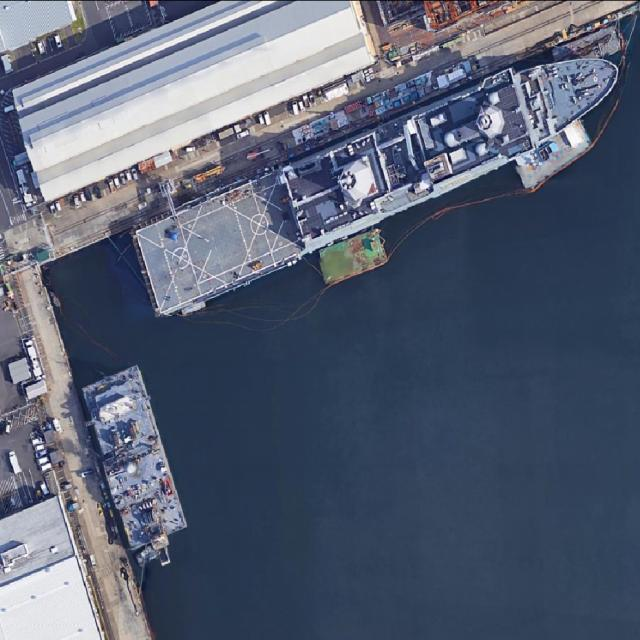Auxiliary Ships: (122, 27, 639, 321)
